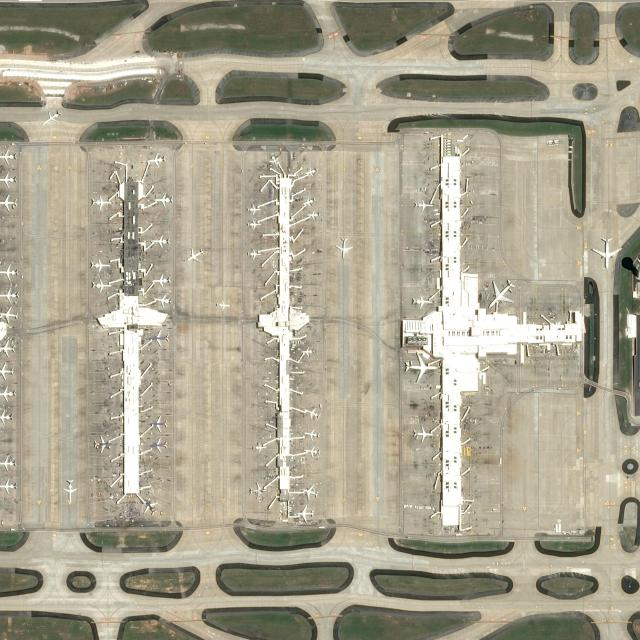1: (0, 262, 20, 282), (0, 306, 20, 324), (0, 476, 18, 496), (0, 191, 16, 213), (0, 452, 16, 474), (0, 287, 20, 304), (0, 339, 16, 359), (1, 148, 18, 166), (0, 384, 16, 403), (0, 406, 14, 427), (0, 171, 16, 189), (0, 361, 14, 381)
aircraft: (402, 351, 438, 383), (590, 234, 622, 268), (487, 279, 516, 308), (92, 433, 116, 454), (334, 236, 354, 260), (412, 424, 434, 444), (61, 478, 78, 503), (145, 151, 167, 170), (88, 193, 112, 210), (411, 292, 433, 310), (88, 256, 110, 274), (89, 276, 113, 292), (40, 108, 61, 126), (294, 505, 316, 522), (149, 415, 168, 434), (185, 246, 205, 264), (153, 191, 173, 209), (152, 291, 172, 309), (150, 272, 172, 288), (247, 481, 266, 499), (300, 484, 318, 502), (141, 498, 159, 516), (148, 438, 168, 454), (150, 233, 170, 249), (413, 198, 434, 212), (303, 406, 321, 420), (303, 445, 319, 458), (246, 247, 262, 260), (244, 202, 260, 215), (306, 208, 320, 222), (301, 195, 316, 208), (215, 298, 231, 310), (246, 218, 262, 230), (305, 166, 319, 178), (304, 428, 319, 439), (252, 441, 268, 451), (300, 347, 314, 357)
